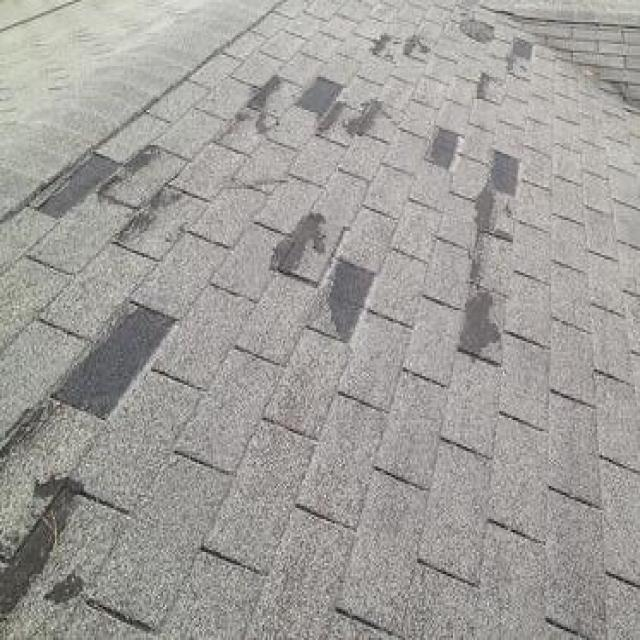damage: (0, 290, 190, 478), (452, 142, 527, 366), (2, 466, 98, 637), (22, 130, 131, 228), (300, 252, 385, 355), (292, 71, 393, 143), (469, 32, 545, 116), (216, 65, 288, 141), (424, 120, 468, 173), (451, 10, 504, 51), (368, 19, 404, 65)
